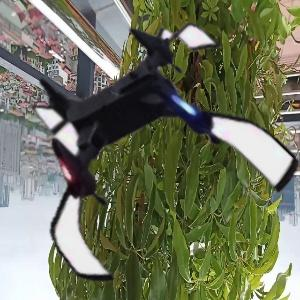drone: (3, 16, 282, 295)
